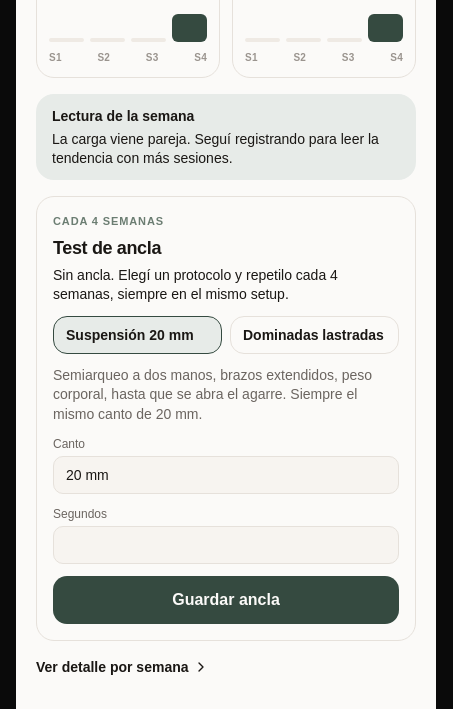
Test case: progress dashboard anchor › logs a fixed hang on the same edge and keeps it out of the weekly KPIs
Later steps or results of the test are not shown.
(page scrolled)
Expected: the text "Sin ancla" is shown, left=53, top=267, right=338, bottom=302
Expected: the text "mismo canto de 20 mm" is shown, left=53, top=367, right=372, bottom=422
Click the button "Guardar ancla".
click(226, 600)  # box left=53, top=576, right=399, bottom=624
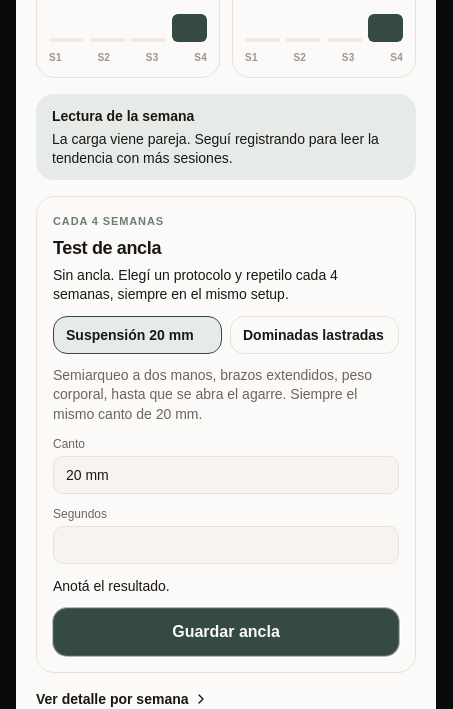
Now the text "Anotá el resultado." is shown, box left=53, top=578, right=170, bottom=594
